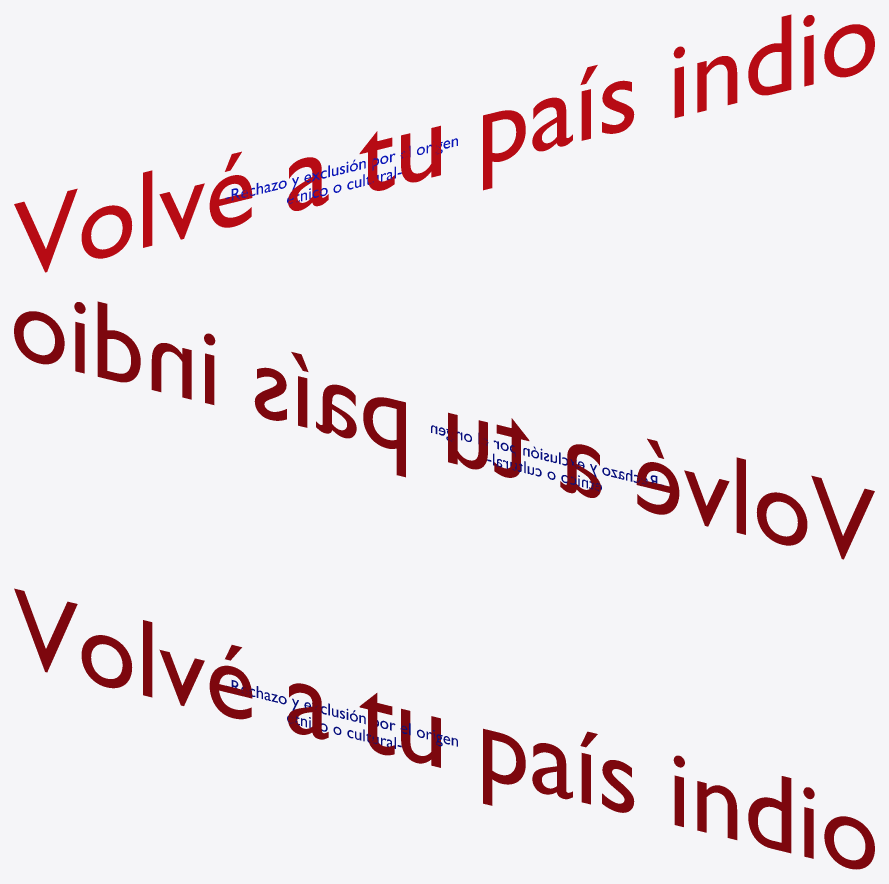
File: palabras1.glb
3 views of the same model, one above another, from view 1: azimuth 30°, elevation 25°; view 2: azimuth 150°, elevation 25°; view 3: azimuth 330°, elevation 25° (orthographic).
Visible parts, largest first — view 1: INDIO, INDIO.001; view 2: INDIO, INDIO.001; view 3: INDIO, INDIO.001.
Boxes of the visible parts, <box> form: INDIO: <box>14,14,874,272</box>; INDIO.001: <box>226,138,457,204</box>; INDIO: <box>14,301,874,559</box>; INDIO.001: <box>431,425,662,491</box>; INDIO: <box>14,588,874,869</box>; INDIO.001: <box>226,680,457,748</box>.
Size of the model in its own units: 1.15 by 0.1282 by 3.15e-09.
